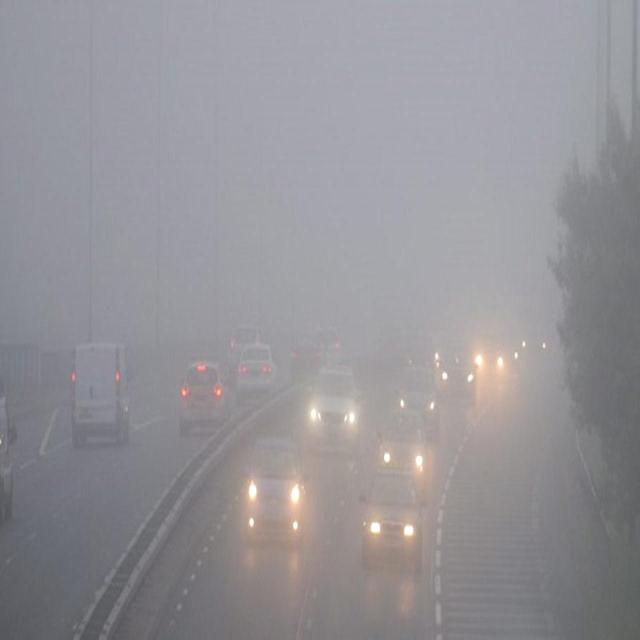Car: (239, 437, 307, 559), (359, 478, 428, 574), (371, 416, 438, 502), (301, 358, 364, 449), (172, 352, 230, 442), (390, 372, 441, 442), (470, 329, 510, 404), (229, 345, 277, 399), (222, 321, 268, 376), (437, 349, 477, 411)
Van: (65, 329, 144, 459)
